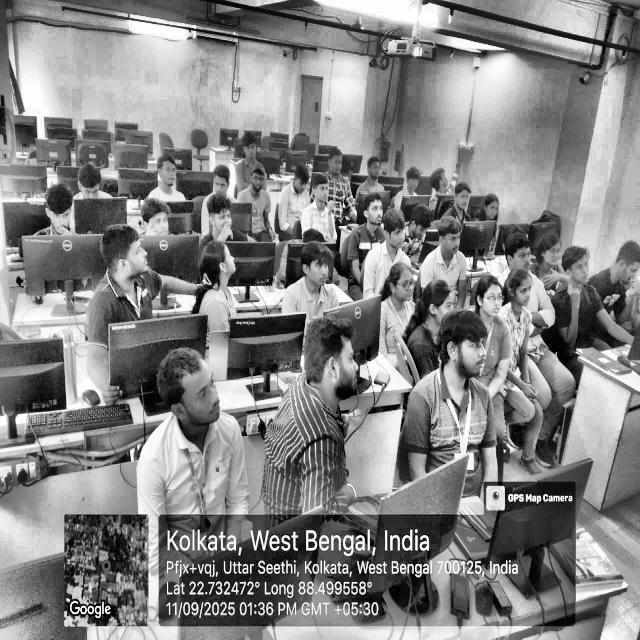Focus: (364, 243, 554, 351), (295, 320, 396, 478), (128, 347, 246, 481), (41, 147, 222, 228), (227, 132, 351, 239), (113, 136, 245, 228), (317, 144, 423, 244), (418, 310, 513, 421), (572, 215, 634, 342), (284, 235, 341, 323)
Not Focus: (110, 217, 179, 288), (179, 230, 244, 293), (422, 147, 484, 199)
